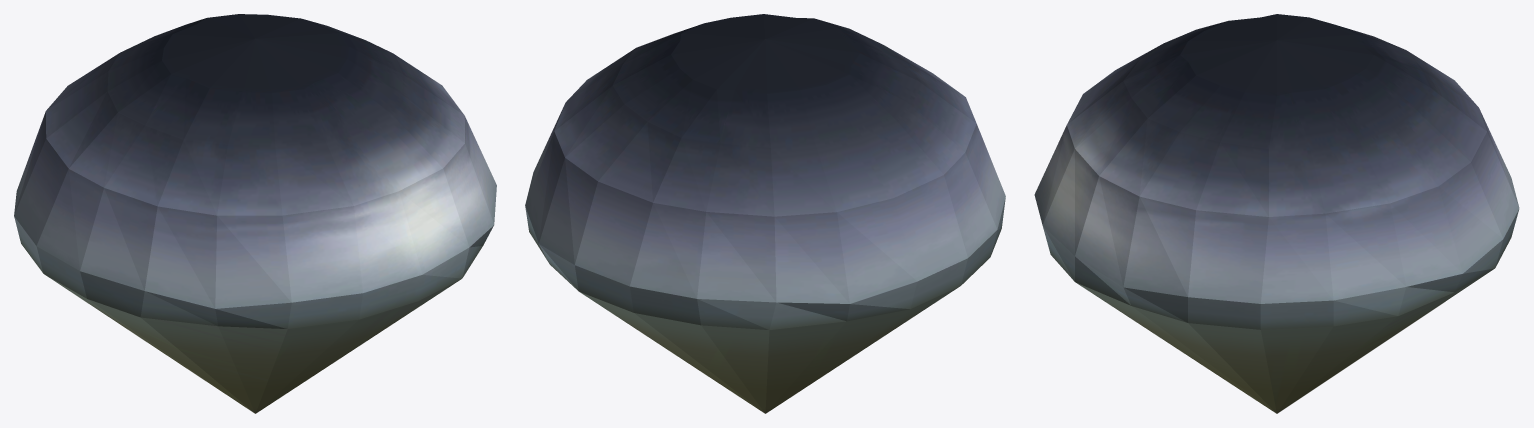
File: C4_Seige_of_the_vladstag_skydome.obj
3 renders of one model, left to right at view 1: azimuth 30°, elevation 25°; view 2: azimuth 150°, elevation 25°; view 3: azimuth 270°, elevation 25°, orthographic.
Parts seen in each view (by area): view 1: Node 0; view 2: Node 0; view 3: Node 0.
Part boxes in pixels (x1,y1,x2,y2): Node 0: (14,14,496,413); Node 0: (525,14,1005,413); Node 0: (1034,14,1519,413).
Size of the model in its own units: 0.6 by 0.51 by 0.6.
9 materials, 9 textured.
